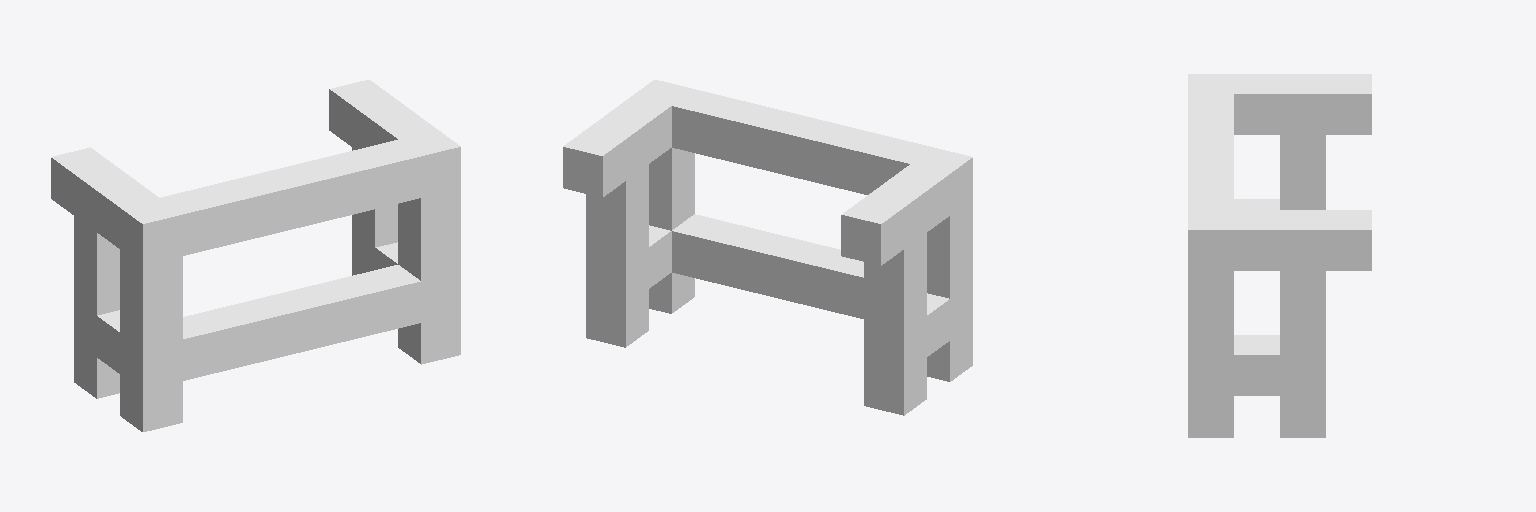
File: grandma03-12.obj
3 views of the same model, side by side, from view 1: azimuth 30°, elevation 25°; view 2: azimuth 150°, elevation 25°; view 3: azimuth 270°, elevation 25° (orthographic).
Parts seen in each view (by area): view 1: grandma03-12; view 2: grandma03-12; view 3: grandma03-12.
Part boxes in pixels (left/top/right/bottom): grandma03-12: left=51, top=80, right=460, bottom=431; grandma03-12: left=563, top=80, right=972, bottom=415; grandma03-12: left=1188, top=74, right=1371, bottom=437.
Size of the model in its own units: 8 by 5 by 4.